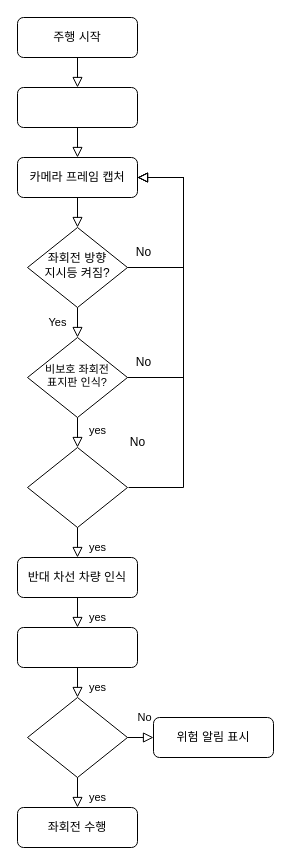
Image size: 291x865. Some labels were removed from this diagram. Here are the shapes that lost their labels. From the top down, the centre of each, then its label:
the point at 77,107: 실시간 카메라 촬영
the point at 77,487: 신호등 초록불?
the point at 77,647: 거리 측정
the point at 77,737: 안전 거리 유지?
